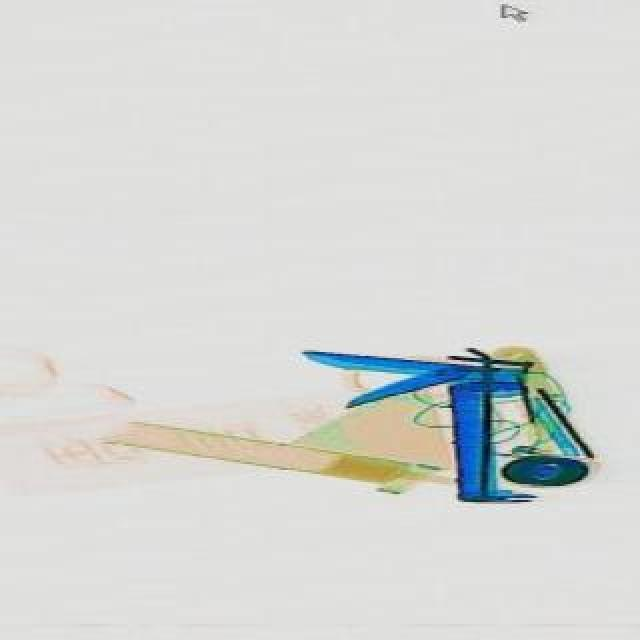knife: (300, 344, 532, 504)
